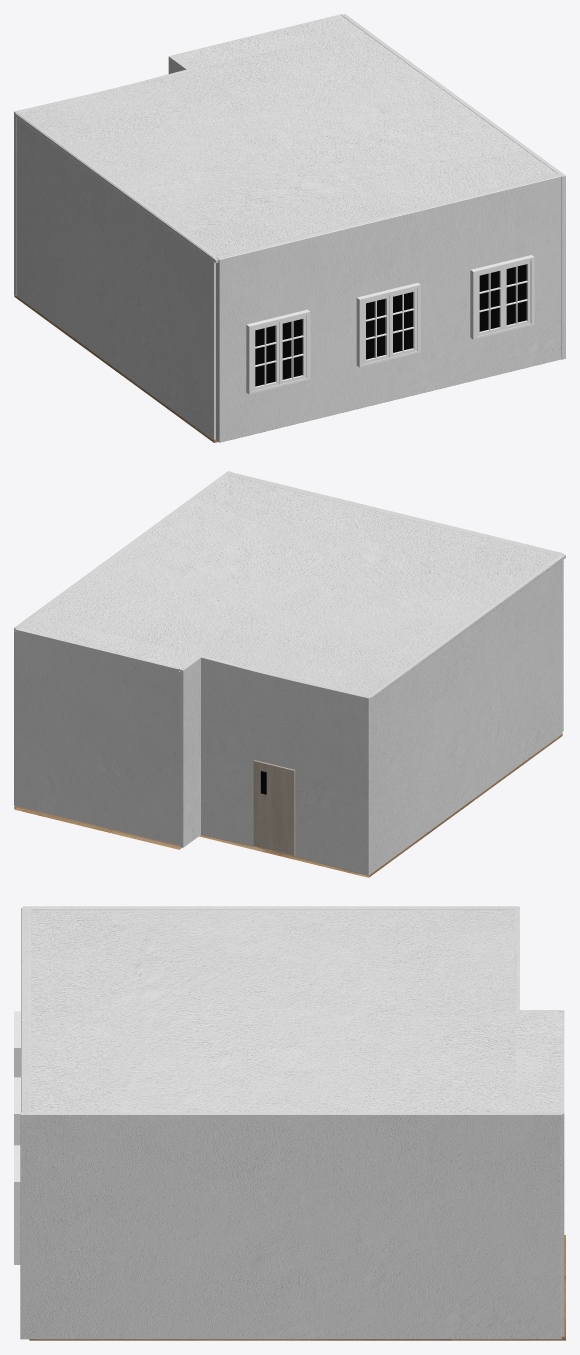
The model's file is Classroom.fbx.
The picture shows the model from 3 angles, top to bottom: view 1: azimuth 30°, elevation 25°; view 2: azimuth 150°, elevation 25°; view 3: azimuth 270°, elevation 25°; orthographic projection. The views are drawn at different scales.
Visible parts, largest first — view 1: pCube32, pCube31, pCube5, pCube21, pCube22, pCube20, pCube37, pCube6, pCube4; view 2: pCube32, pCube6, pCube5, pCube24, pCube4, pCube31, pCube37; view 3: pCube37, pCube32, pCube31, pCube5, pCube6, pCube4, pCube20.
Boxes of the visible parts, x1,y1,x2,y2 form: pCube32: (15, 14, 556, 263); pCube31: (216, 173, 562, 442); pCube5: (16, 111, 217, 439); pCube21: (356, 282, 420, 367); pCube22: (246, 309, 310, 394); pCube20: (470, 255, 534, 339); pCube37: (341, 14, 565, 359); pCube6: (14, 14, 341, 295); pCube4: (14, 295, 217, 442); pCube32: (14, 475, 565, 700); pCube6: (15, 629, 370, 875); pCube5: (366, 555, 562, 873); pCube24: (253, 760, 295, 855); pCube4: (14, 733, 562, 877); pCube31: (227, 472, 563, 731); pCube37: (14, 471, 231, 805); pCube37: (20, 1112, 561, 1339); pCube32: (23, 906, 562, 1118); pCube31: (21, 907, 30, 1113); pCube5: (30, 906, 516, 909); pCube6: (514, 906, 564, 1336); pCube4: (29, 1235, 565, 1340); pCube20: (14, 1145, 20, 1264).
Bounding box in the file's own units: 42.58 × 21.61 × 47.54.
